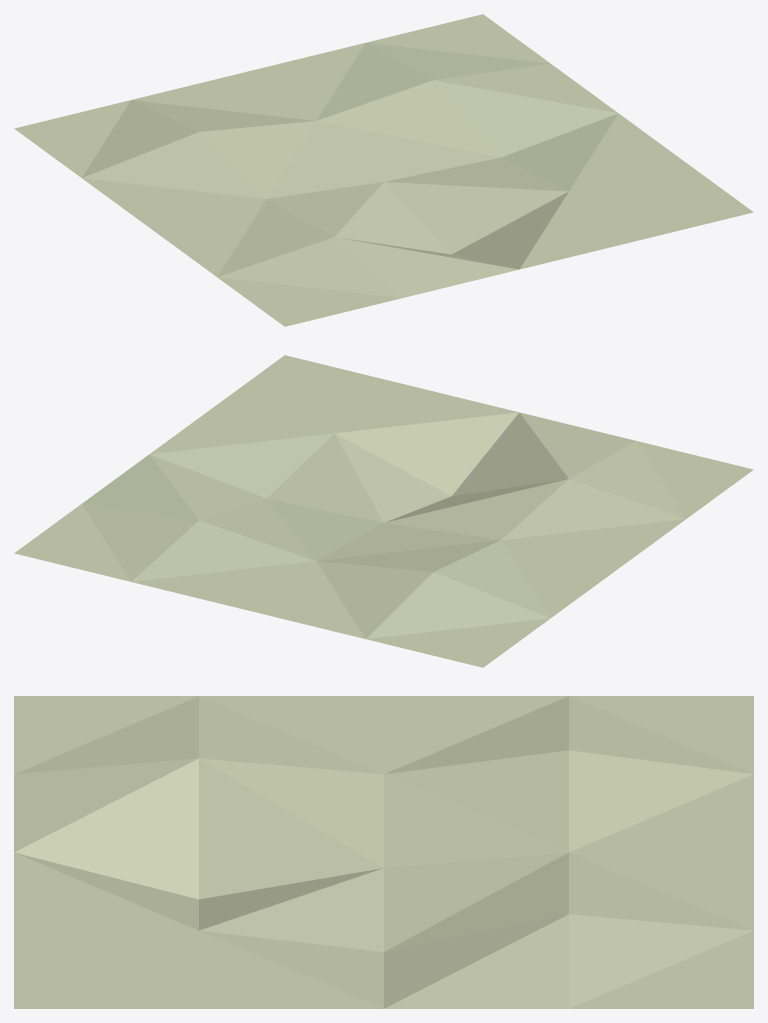
The picture shows the model from 3 angles, top to bottom: view 1: azimuth 30°, elevation 25°; view 2: azimuth 150°, elevation 25°; view 3: azimuth 270°, elevation 25°; orthographic projection. The views are drawn at different scales.
Parts seen in each view (by area): view 1: Plane-0; view 2: Plane-0; view 3: Plane-0.
Boxes of the visible parts, box(x1,y1,x2,y2) form: Plane-0: box(14, 14, 753, 326); Plane-0: box(14, 355, 753, 667); Plane-0: box(14, 696, 753, 1008).
Size of the model in its own units: 20 by 2.12 by 20.
